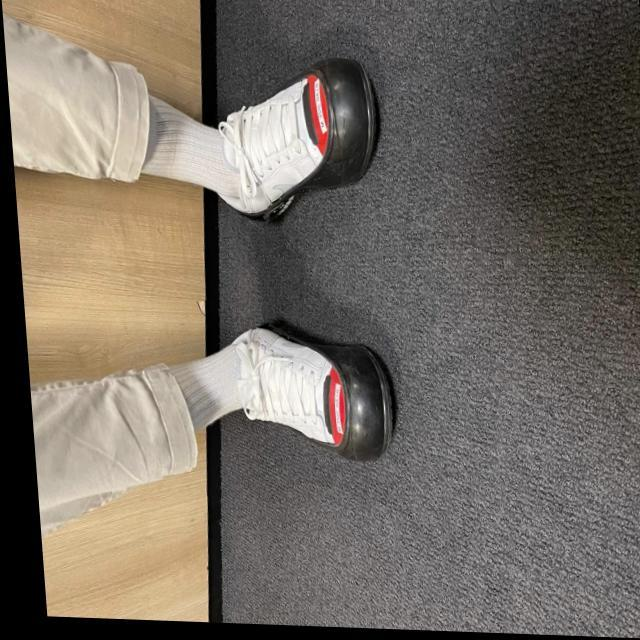shoes: (225, 56, 387, 230), (225, 319, 398, 459)
